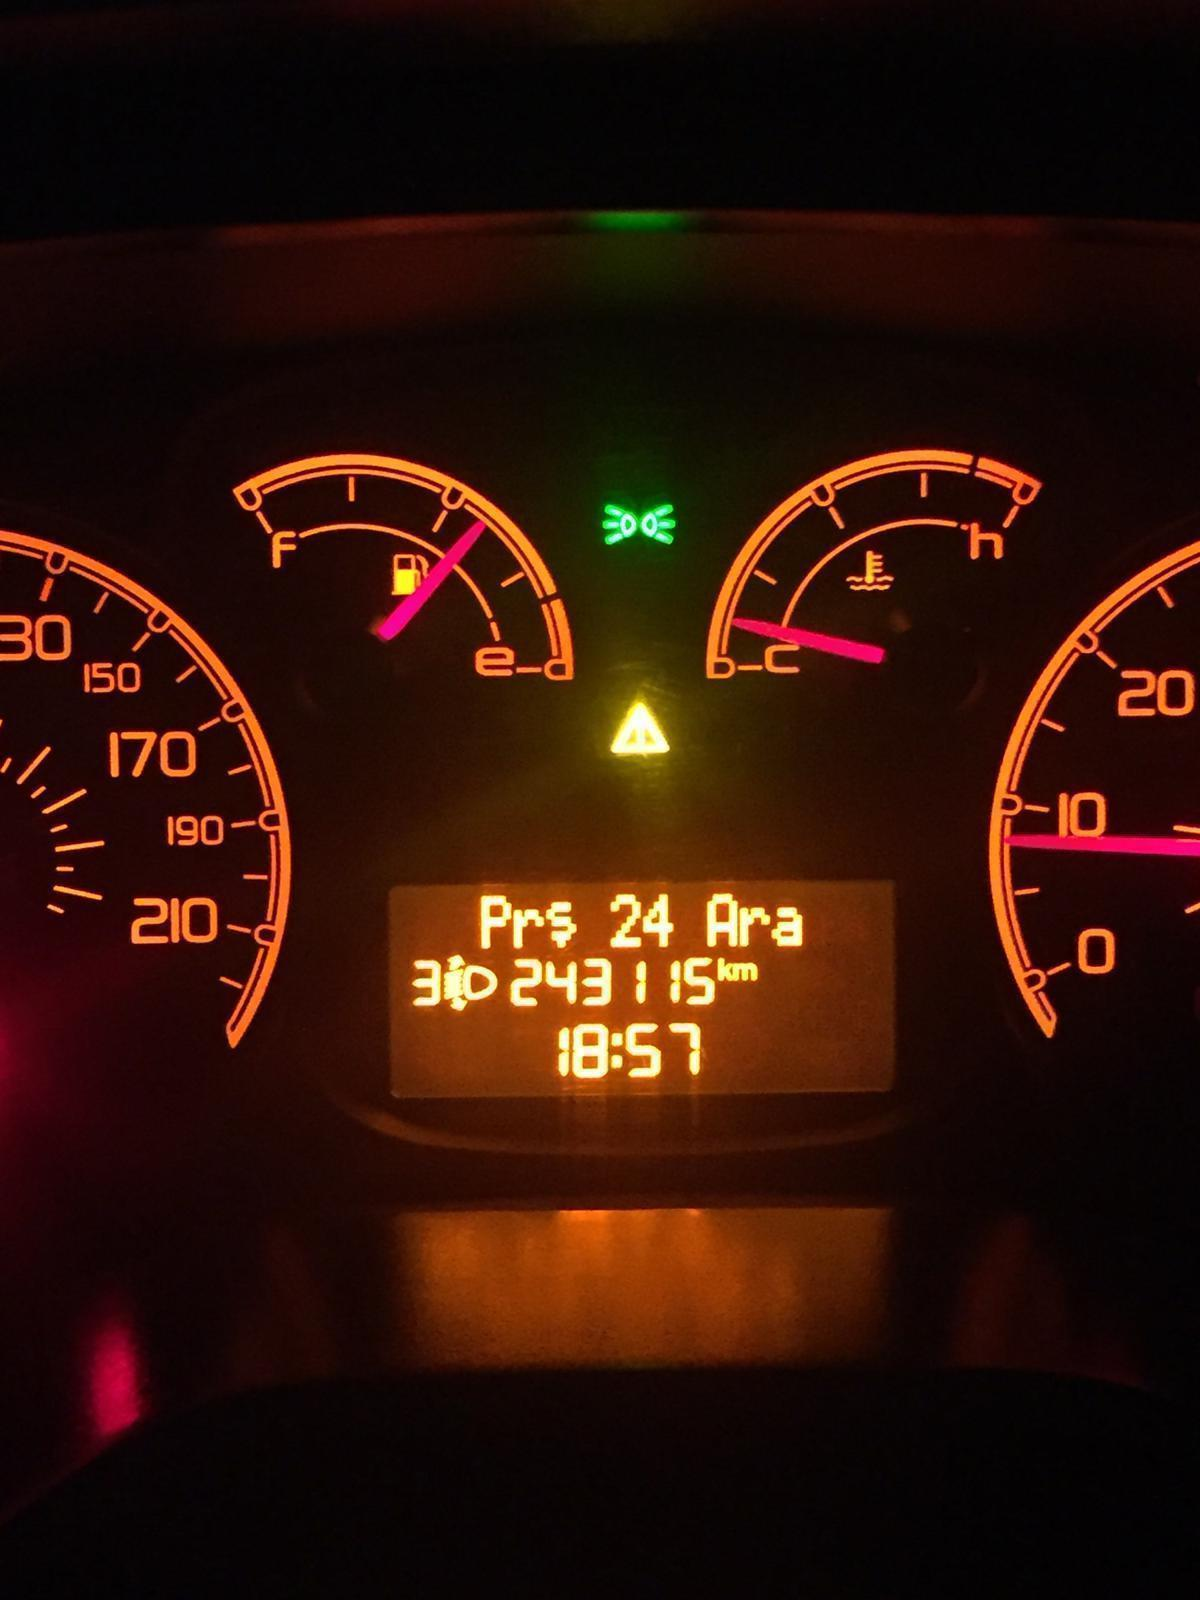1: (555, 1022, 570, 1081), (633, 957, 650, 1008), (667, 956, 682, 1007)
2: (609, 889, 642, 949), (508, 956, 542, 1010)
3: (411, 955, 442, 1009), (581, 954, 613, 1007)
4: (644, 889, 678, 952), (545, 957, 579, 1004)
5: (625, 1019, 662, 1078), (684, 952, 713, 1007)
7: (668, 1018, 701, 1077)
8: (572, 1019, 608, 1082)
X: (546, 896, 584, 949), (476, 889, 511, 947), (705, 892, 737, 947), (770, 903, 805, 947), (512, 905, 545, 951), (737, 902, 768, 947), (731, 957, 761, 983), (609, 1026, 624, 1075), (715, 952, 730, 984)
odometer: (384, 863, 915, 1110)
